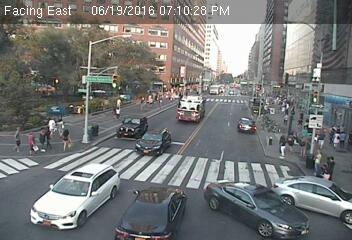neg: (207, 139, 240, 183), (123, 200, 143, 228), (98, 164, 117, 190), (197, 166, 216, 191), (177, 189, 195, 213), (155, 126, 172, 149), (24, 168, 41, 191), (69, 181, 86, 204), (125, 139, 142, 161), (54, 174, 68, 193), (221, 110, 235, 129)
pos: (320, 152, 343, 183), (6, 125, 27, 152), (40, 125, 60, 152), (308, 148, 328, 174), (273, 134, 291, 159), (22, 129, 40, 152), (112, 97, 129, 120), (59, 126, 75, 148), (45, 116, 59, 134), (136, 95, 150, 113), (297, 109, 311, 127), (153, 93, 167, 110), (333, 131, 346, 148), (281, 110, 293, 125), (281, 100, 292, 115)
